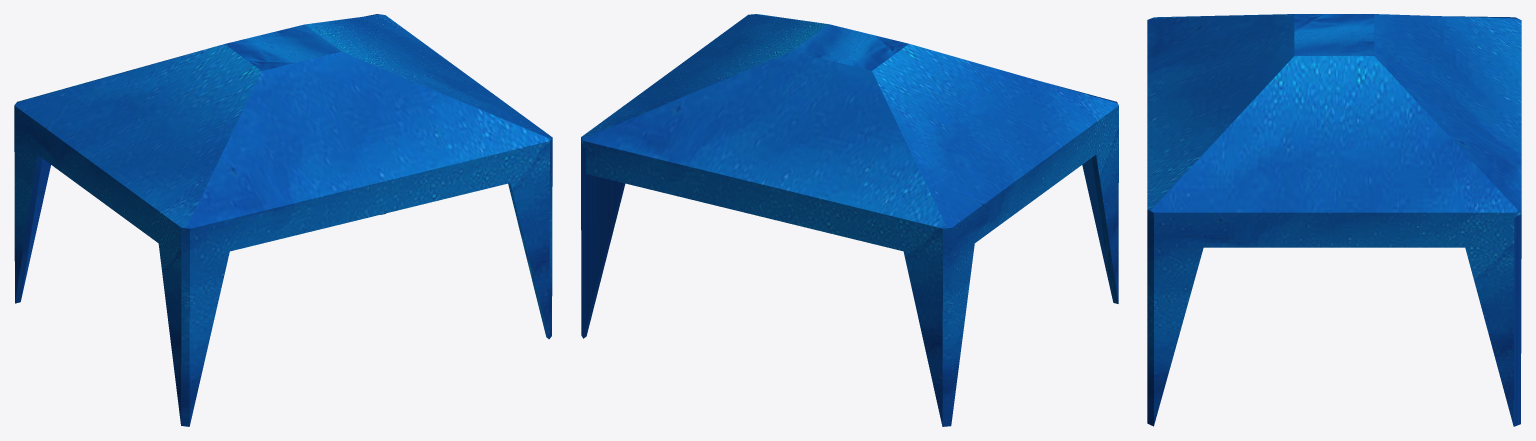
File: Carpamonoiblock.fbx
The picture shows the model from 3 angles, left to right: view 1: azimuth 30°, elevation 25°; view 2: azimuth 150°, elevation 25°; view 3: azimuth 270°, elevation 25°; orthographic projection. The views are drawn at different scales.
Parts seen in each view (by area): view 1: Cube.008; view 2: Cube.008; view 3: Cube.008.
Part boxes in pixels (bbox=[...]): Cube.008: bbox=[14, 14, 552, 426]; Cube.008: bbox=[581, 14, 1118, 426]; Cube.008: bbox=[1147, 14, 1521, 426].
Size of the model in its own units: 399 by 279 by 323.
Materials: 9 (9 with a texture image).
